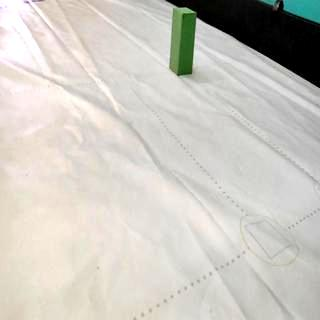greenbox: (168, 6, 198, 75)
